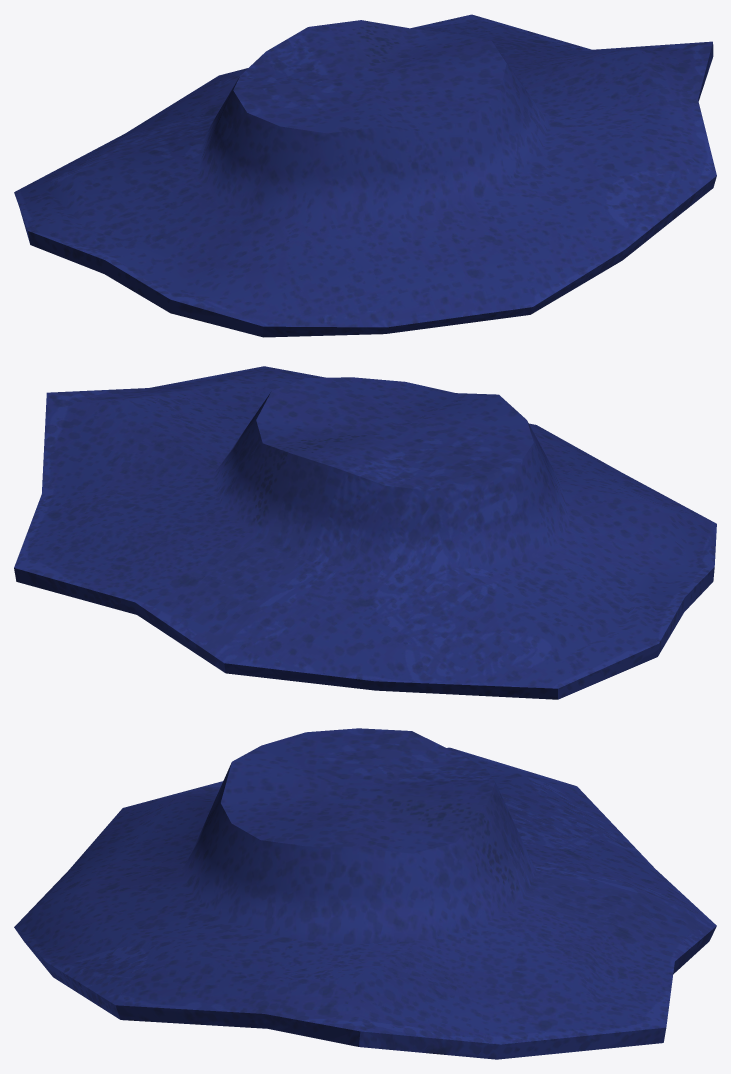
Rendered from petasus_romanhat.fbx.
The picture shows the model from 3 angles, top to bottom: view 1: azimuth 30°, elevation 25°; view 2: azimuth 150°, elevation 25°; view 3: azimuth 270°, elevation 25°; orthographic projection. The views are drawn at different scales.
Visible parts, largest first — view 1: pCylinder2; view 2: pCylinder2; view 3: pCylinder2.
Boxes of the visible parts, <box> form: pCylinder2: <box>14,14,716,337</box>; pCylinder2: <box>14,366,716,699</box>; pCylinder2: <box>14,728,716,1059</box>.
Size of the model in its own units: 3.57 by 0.7688 by 3.01.
